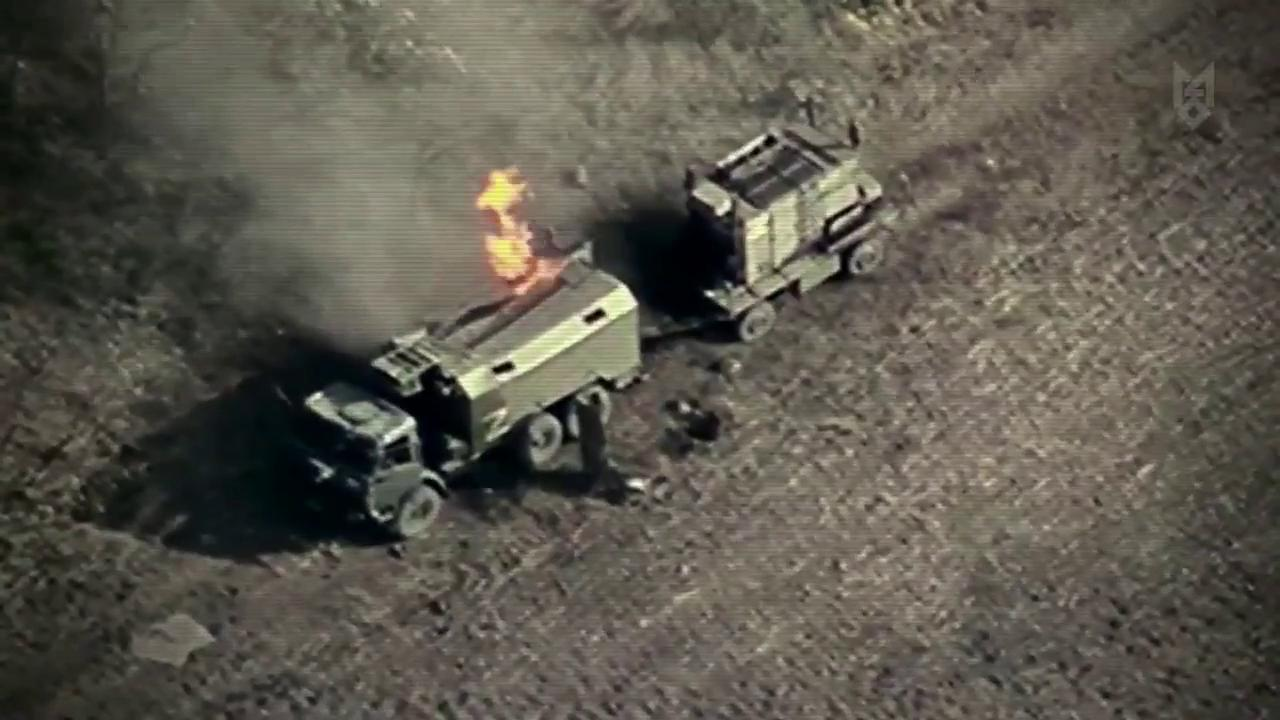tank: (297, 234, 651, 544), (665, 104, 896, 353)
